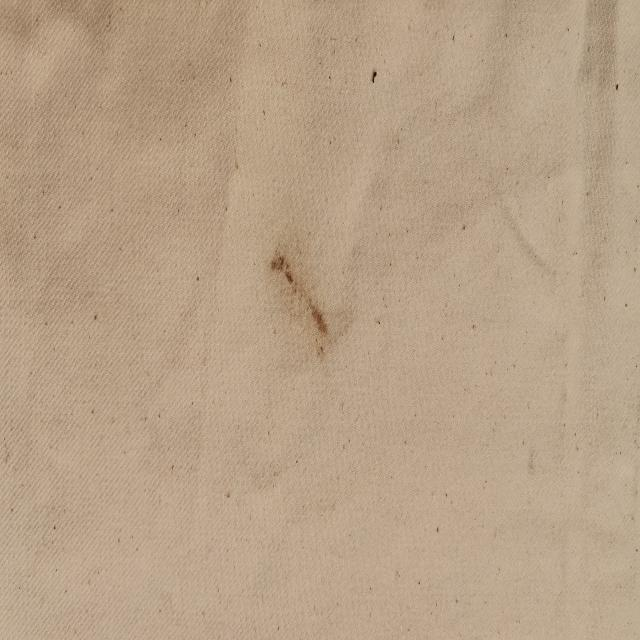taaaches: (262, 232, 352, 383)
